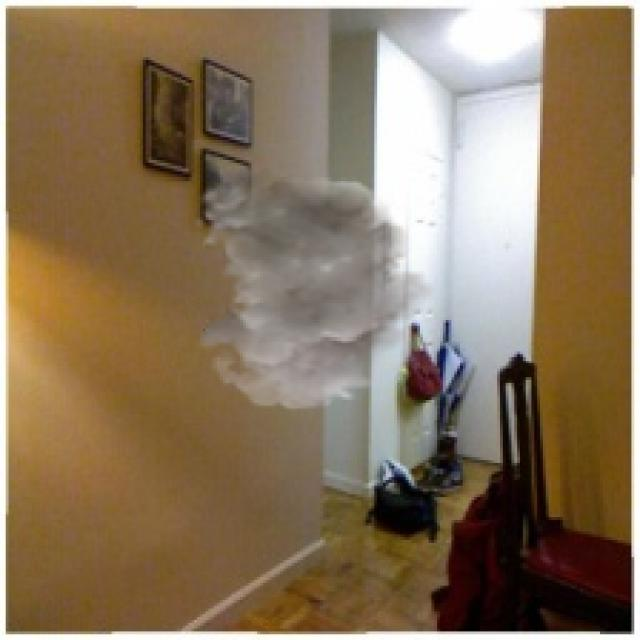smoke: (191, 166, 440, 411)
